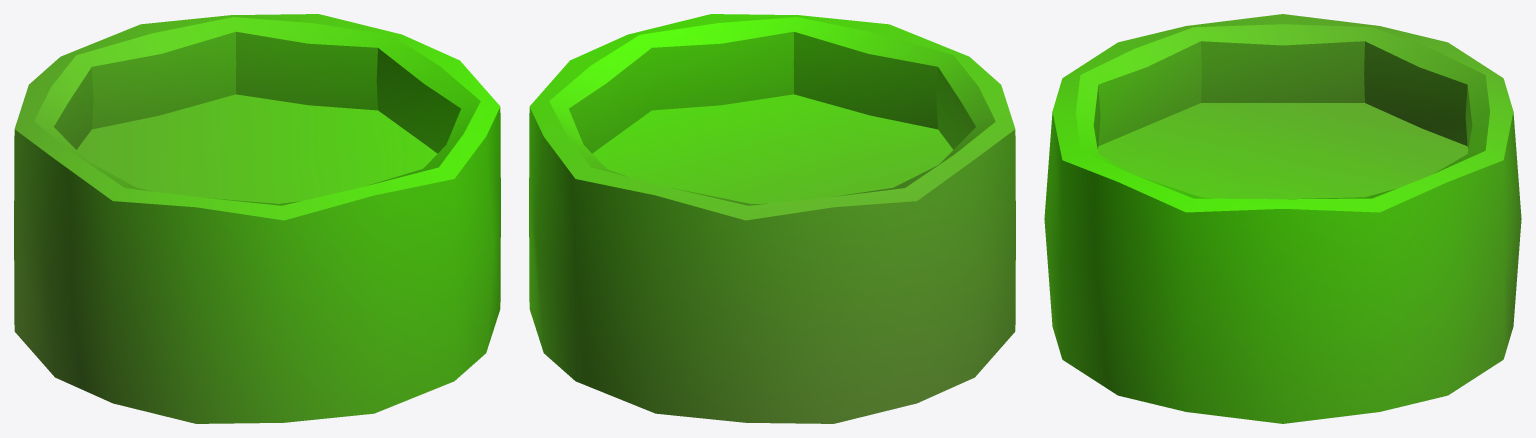
File: Petrified Slime.fbx
3 views of the same model, side by side, from view 1: azimuth 30°, elevation 25°; view 2: azimuth 150°, elevation 25°; view 3: azimuth 270°, elevation 25° (orthographic).
Visible parts, largest first — view 1: PETRIFIED SLIME.001; view 2: PETRIFIED SLIME.001; view 3: PETRIFIED SLIME.001.
Boxes of the visible parts, left/top/right/bottom form: PETRIFIED SLIME.001: left=14, top=14, right=500, bottom=423; PETRIFIED SLIME.001: left=529, top=14, right=1015, bottom=423; PETRIFIED SLIME.001: left=1044, top=14, right=1521, bottom=423.
Bounding box in the file's own units: 172 × 85.36 × 172.
Materials: 1 (1 with a texture image).
